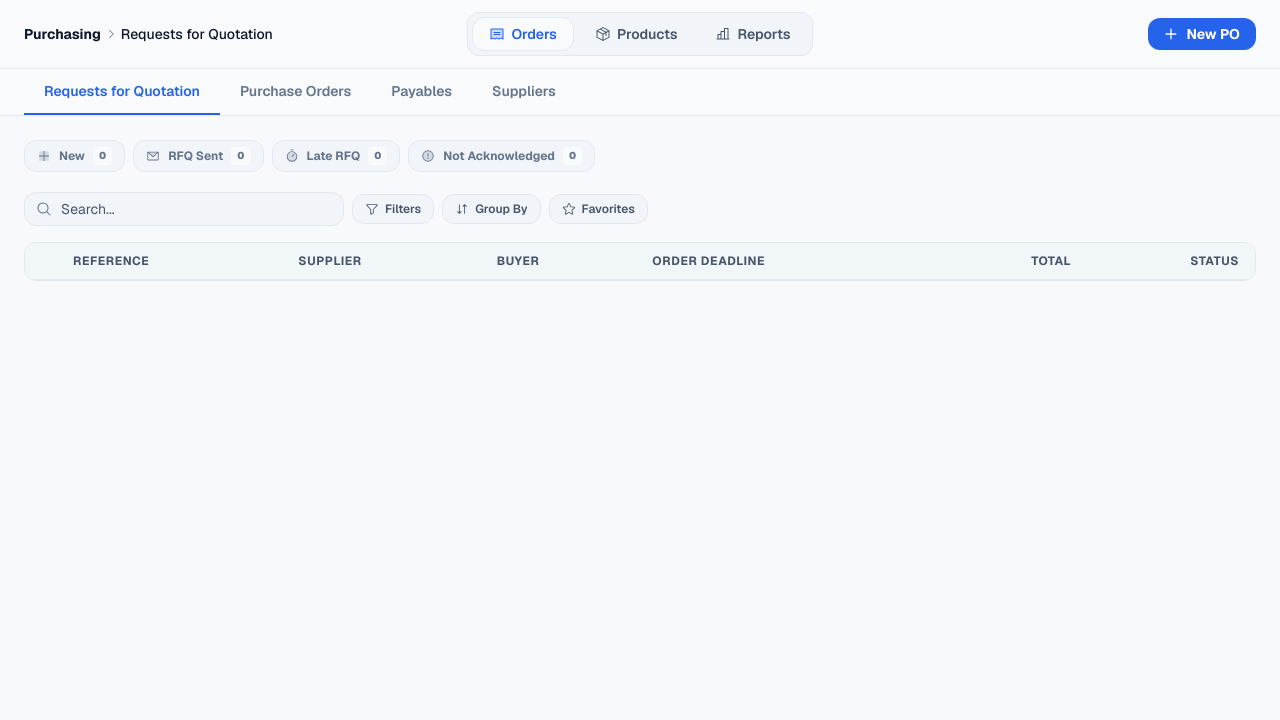
Purchasing product modal keyboard safety › Discard closes a dirty modal; the Close button and backdrop also guard
Click the button "Products".
click(636, 34)  # box [578,17,694,51]
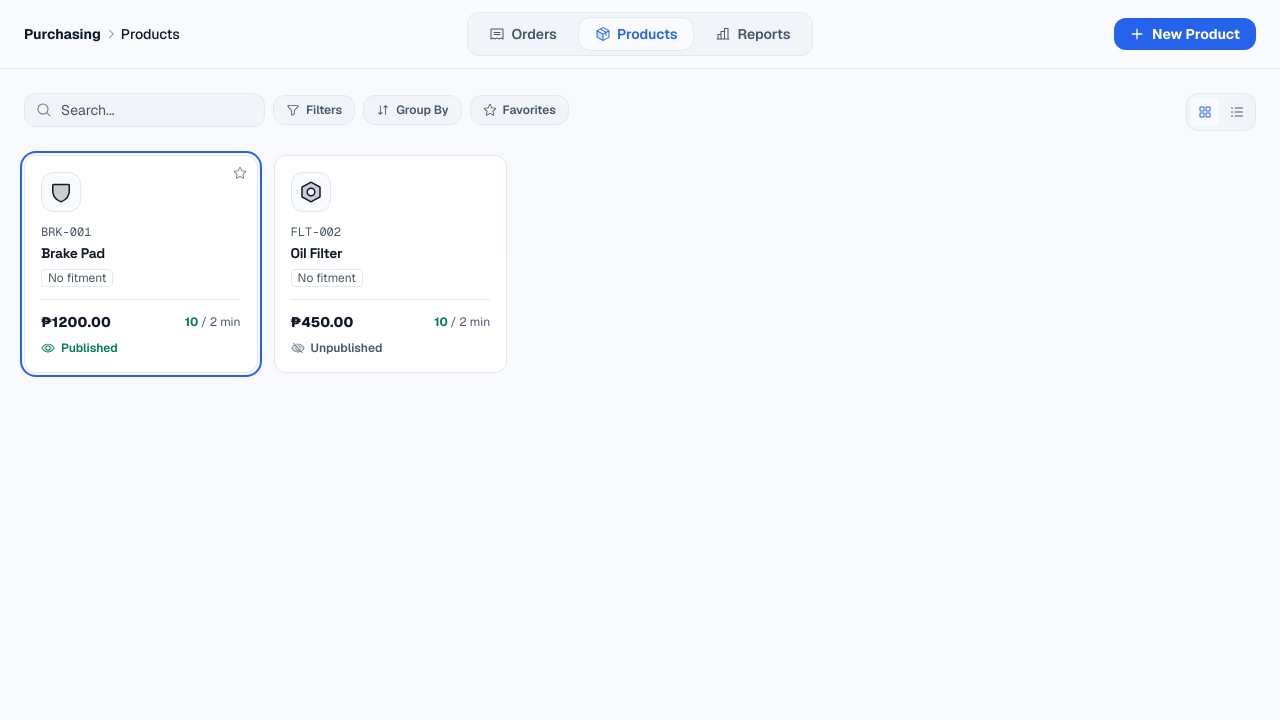
Press Enter in the button "Brake Pad", box [24,155,258,373]
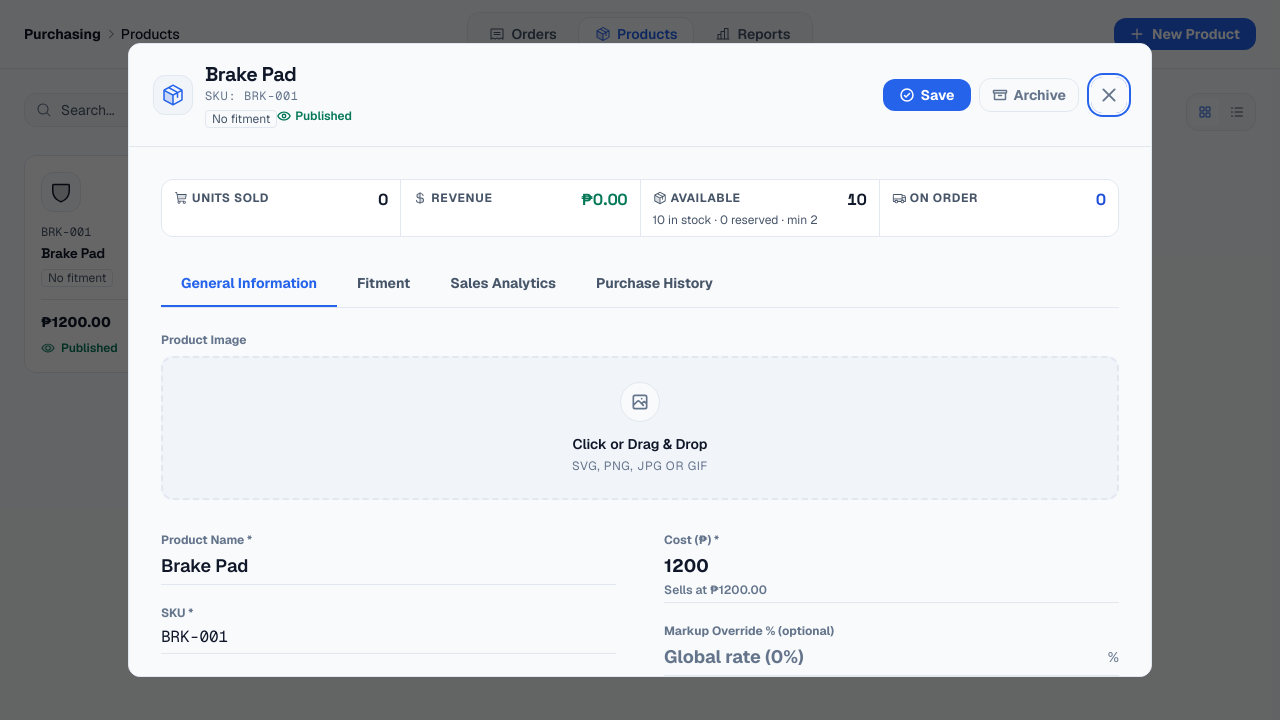
Replace the text in the field labelled "Product Name *" with "Changed" at (388, 566), box [161,552,616,580]
Click the button named "Close product".
click(1109, 95)  # box [1091,77,1127,113]
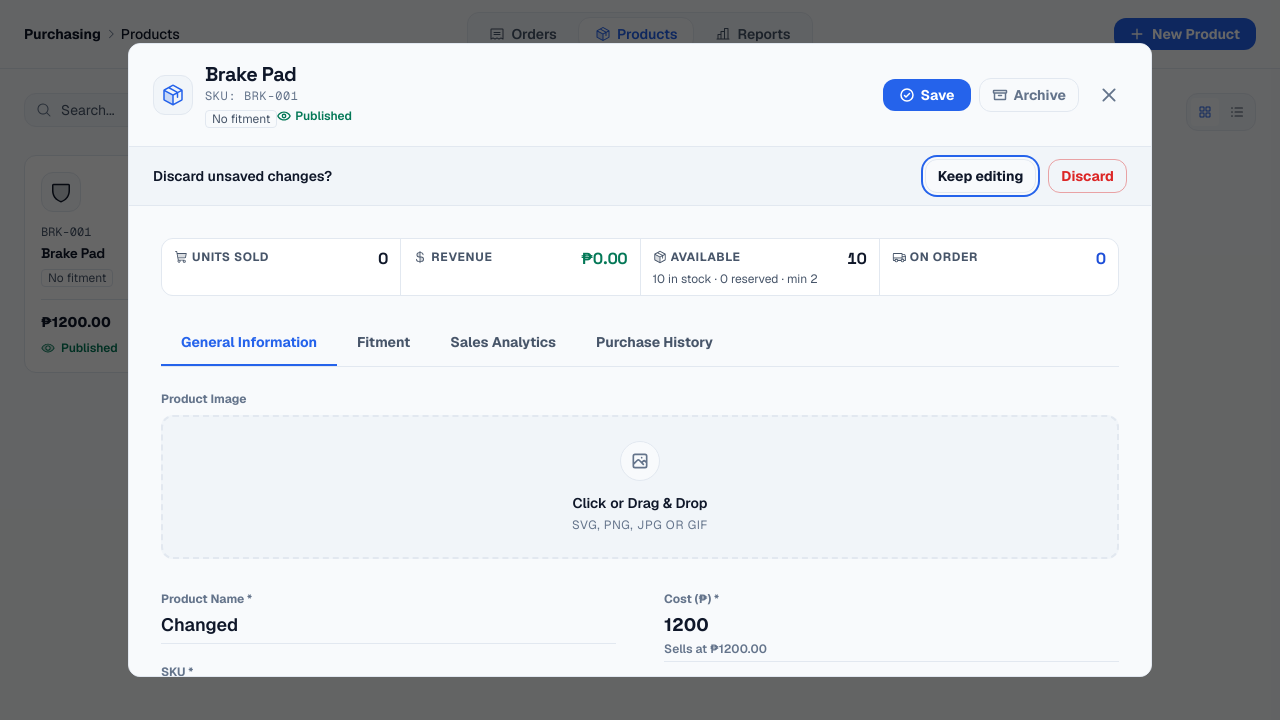
Check: the text "Discard unsaved changes?" is shown, box [153,167,332,185]
Click the button "Keep editing".
click(981, 176)  # box [925,159,1036,193]
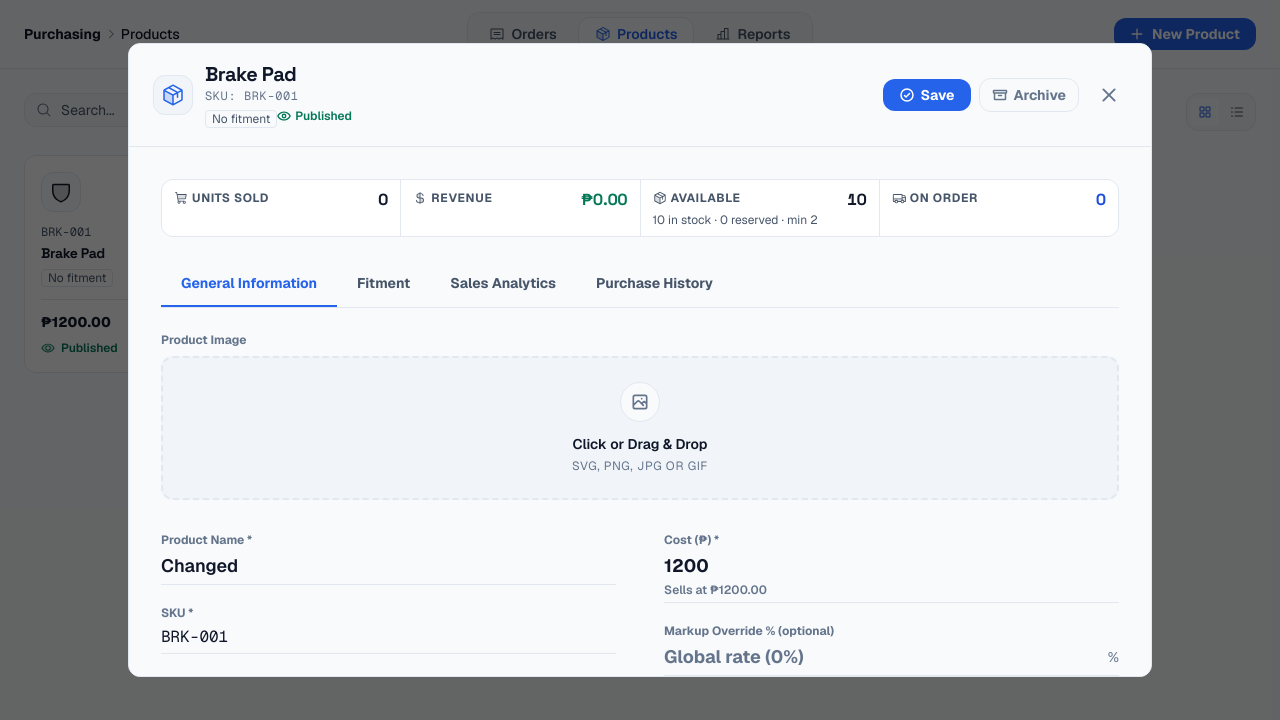
Click the element that starts with "Brake Pad".
click(77, 360)  # box [0,0,1279,719]
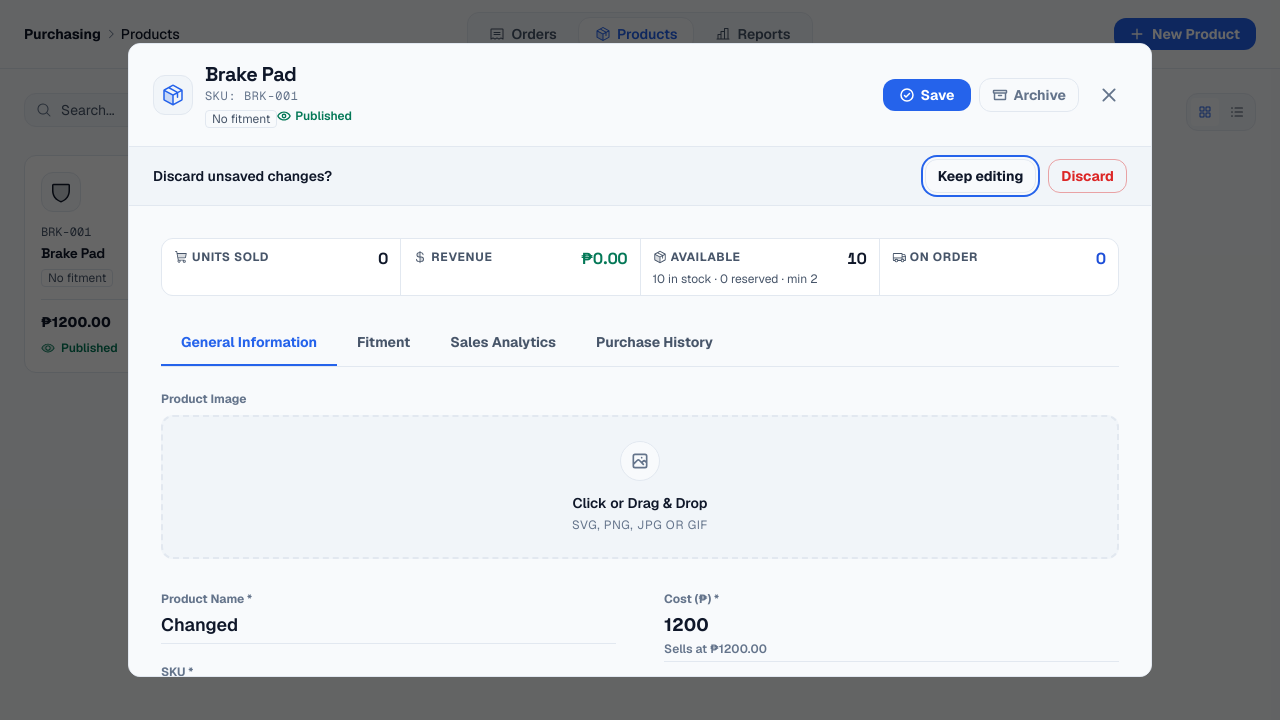
Check: the text "Discard unsaved changes?" is shown, box [153,167,332,185]
Click the button "Discard".
click(1088, 176)  # box [1048,159,1127,193]
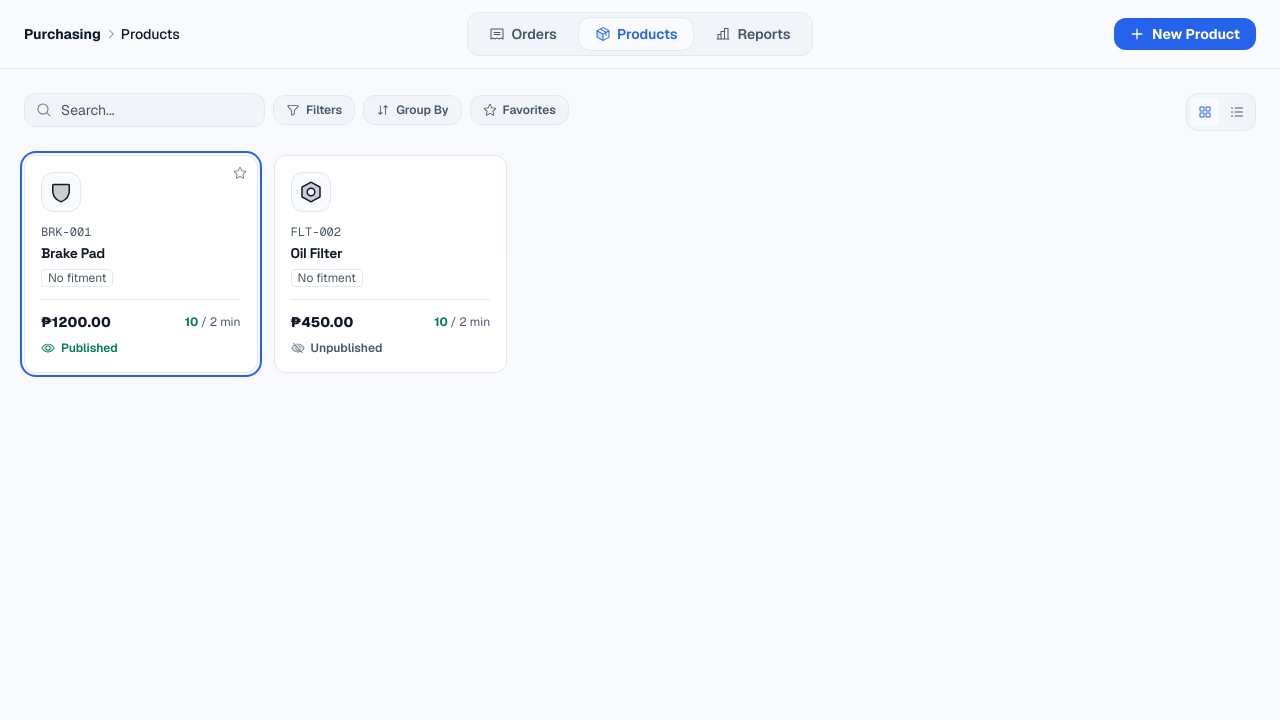
Check: the dialog is gone
